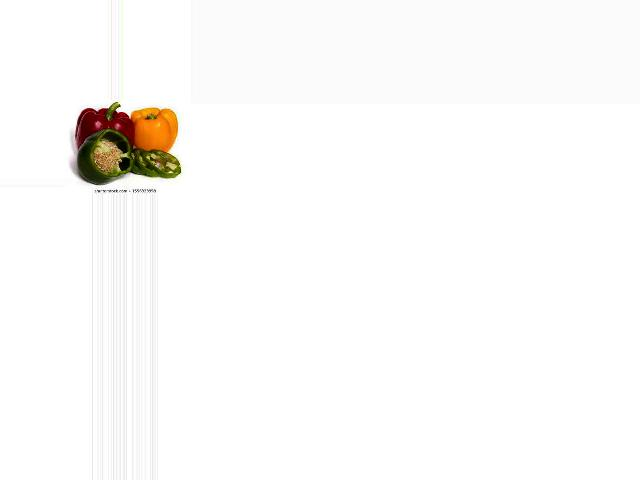bell_pepper: (71, 127, 133, 180)
